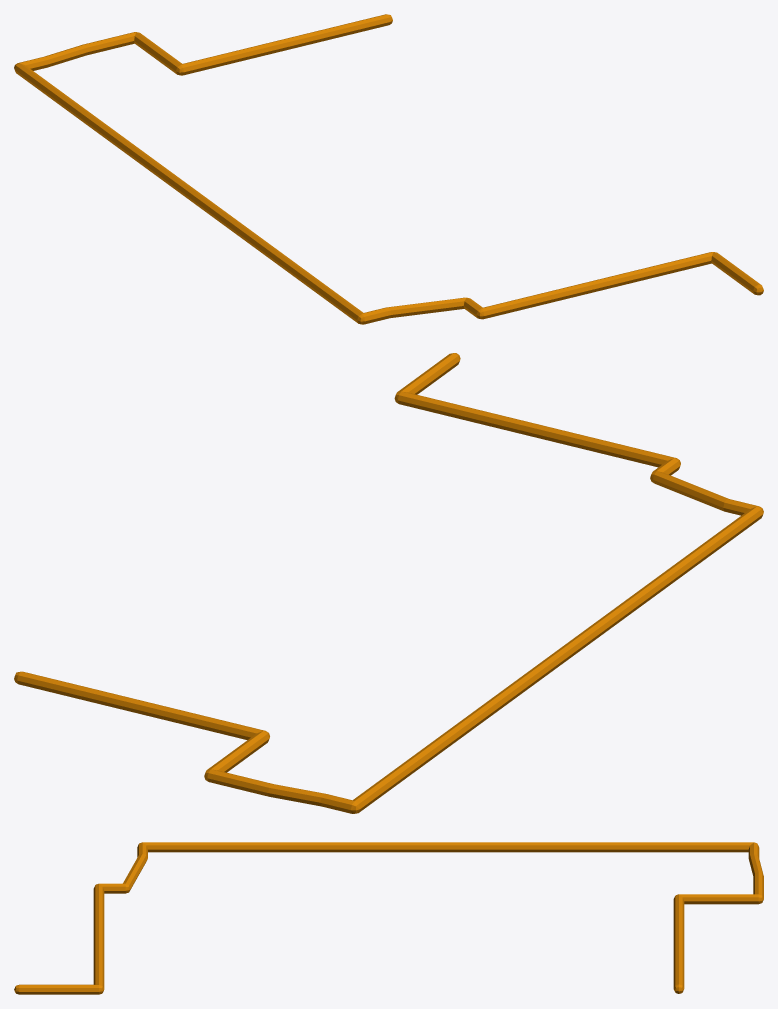
3 renders of one model, top to bottom at view 1: azimuth 30°, elevation 25°; view 2: azimuth 150°, elevation 25°; view 3: azimuth 270°, elevation 25°, orthographic. The views are drawn at different scales.
Size of the model in its own units: 654 by 20 by 1411.
